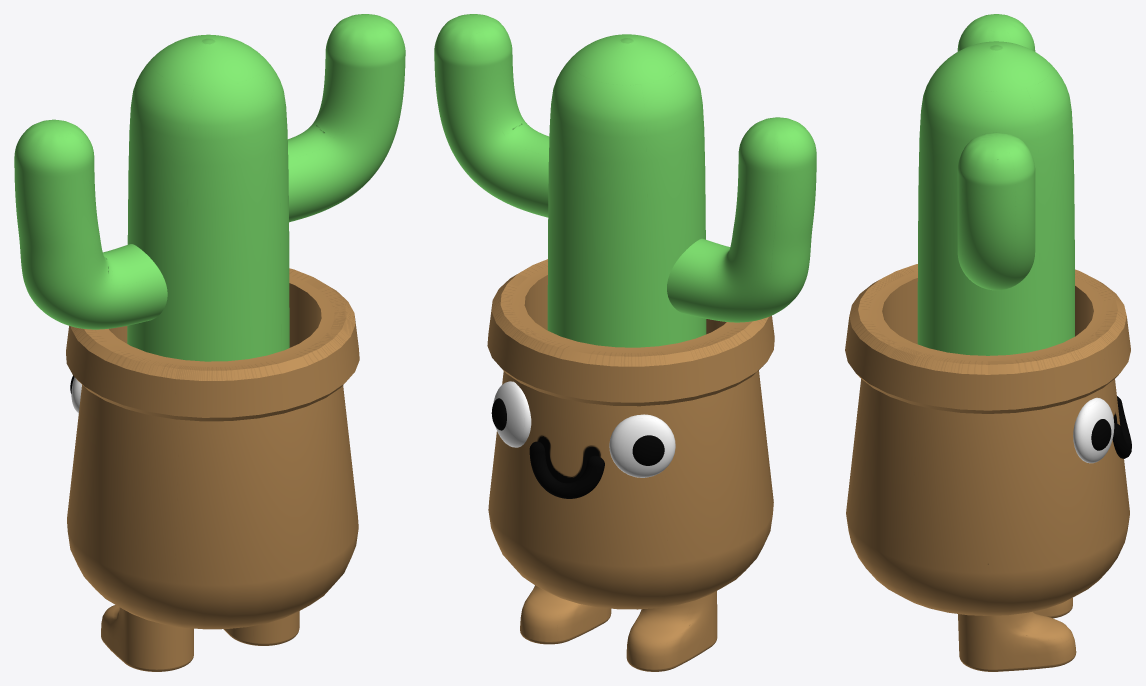
Rendered from pot 2.fbx.
The picture shows the model from 3 angles, left to right: view 1: azimuth 30°, elevation 25°; view 2: azimuth 150°, elevation 25°; view 3: azimuth 270°, elevation 25°; orthographic projection. The views are drawn at different scales.
Parts seen in each view (by area): view 1: NurbsPath.001, Cylinder, Cylinder.001; view 2: NurbsPath.001, Cylinder, Cylinder.001, Sphere, NurbsPath; view 3: Cylinder, NurbsPath.001, Cylinder.001, Sphere, NurbsPath.
Boxes of the visible parts, x1=… form: NurbsPath.001: x1=14, y1=14, x2=405, y2=361; Cylinder: x1=66, y1=268, x2=359, y2=629; Cylinder.001: x1=101, y1=605, x2=299, y2=671; NurbsPath.001: x1=434, y1=14, x2=816, y2=347; Cylinder: x1=487, y1=259, x2=774, y2=609; Cylinder.001: x1=520, y1=585, x2=717, y2=671; Sphere: x1=491, y1=381, x2=675, y2=477; NurbsPath: x1=529, y1=441, x2=604, y2=498; Cylinder: x1=845, y1=264, x2=1130, y2=615; NurbsPath.001: x1=917, y1=14, x2=1074, y2=355; Cylinder.001: x1=958, y1=598, x2=1076, y2=671; Sphere: x1=1073, y1=397, x2=1114, y2=463; NurbsPath: x1=1112, y1=396, x2=1131, y2=458.
Bounding box in the file's own units: 331 × 504 × 222.
Materials: 1 (1 with a texture image).
